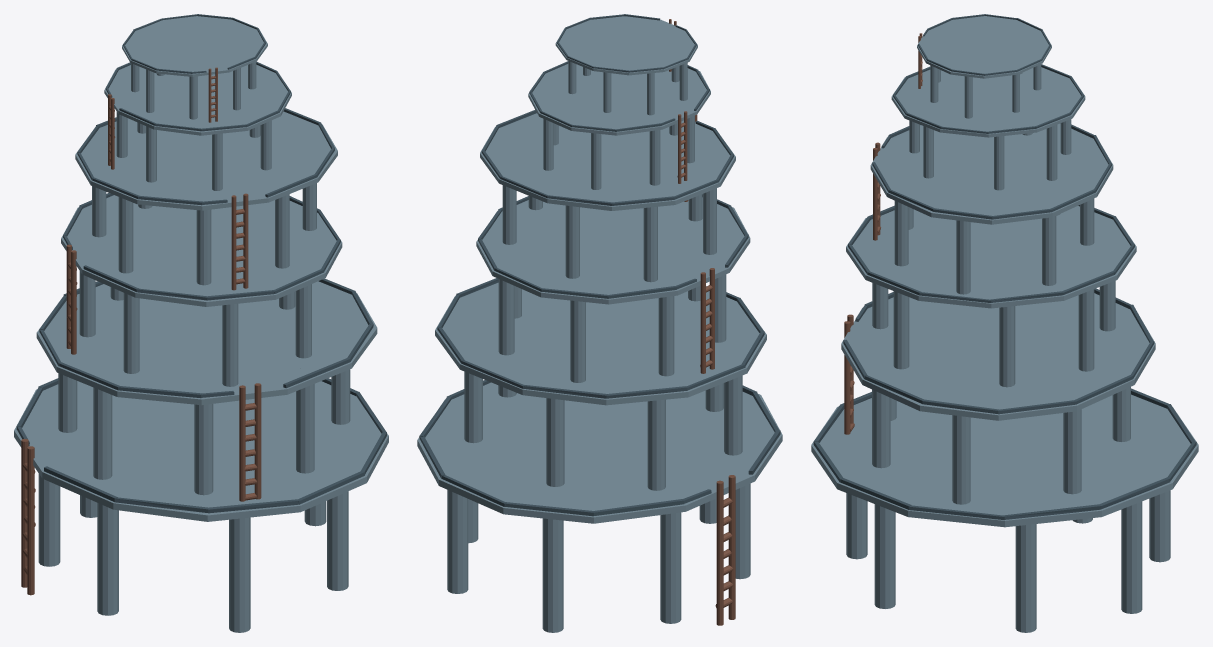
The model's file is tower-by-sugamo-93Ei0IrrdmH.glb.
3 views of the same model, side by side, from view 1: azimuth 30°, elevation 25°; view 2: azimuth 150°, elevation 25°; view 3: azimuth 270°, elevation 25° (orthographic). The views are drawn at different scales.
Visible parts, largest first — view 1: group1738904773, group698775210, group1976944224, group1350971103, group419288730, group540986195, group1004820329, group366991137, group244419573, group154446479, group1543701781, group1903699112 (+1 smaller); view 2: group1738904773, group698775210, group1976944224, group1350971103, group419288730, group540986195, group1907647352, group1543701781, group366991137, group1374981706; view 3: group1738904773, group698775210, group1976944224, group1350971103, group419288730, group540986195, group154446479, group1374981706, group244419573, group1907647352.
Boxes of the visible parts, bbox=[...] form: group1738904773: bbox=[14, 378, 388, 632]; group698775210: bbox=[36, 278, 377, 501]; group1976944224: bbox=[61, 193, 342, 386]; group1350971103: bbox=[75, 111, 337, 210]; group419288730: bbox=[104, 61, 291, 190]; group540986195: bbox=[122, 14, 267, 122]; group1004820329: bbox=[196, 193, 211, 285]; group366991137: bbox=[118, 181, 133, 273]; group244419573: bbox=[275, 176, 289, 268]; group154446479: bbox=[302, 138, 316, 230]; group1543701781: bbox=[92, 186, 106, 237]; group1903699112: bbox=[231, 195, 236, 290]; group1738904773: bbox=[417, 380, 782, 632]; group698775210: bbox=[435, 278, 766, 490]; group1976944224: bbox=[476, 194, 750, 382]; group1350971103: bbox=[480, 113, 735, 210]; group419288730: bbox=[528, 61, 710, 189]; group540986195: bbox=[555, 14, 697, 115]; group1907647352: bbox=[565, 189, 579, 278]; group1543701781: bbox=[643, 206, 657, 282]; group366991137: bbox=[703, 165, 716, 254]; group1374981706: bbox=[502, 155, 516, 244]; group1738904773: bbox=[811, 388, 1198, 632]; group698775210: bbox=[841, 288, 1155, 504]; group1976944224: bbox=[846, 205, 1136, 387]; group1350971103: bbox=[870, 123, 1113, 224]; group419288730: bbox=[891, 64, 1085, 190]; group540986195: bbox=[917, 14, 1051, 118]; group154446479: bbox=[956, 204, 970, 294]; group1374981706: bbox=[1042, 196, 1056, 285]; group244419573: bbox=[894, 176, 908, 266]; group1907647352: bbox=[1080, 156, 1094, 245].
Size of the model in its own units: 1.52 by 2.47 by 1.64.
